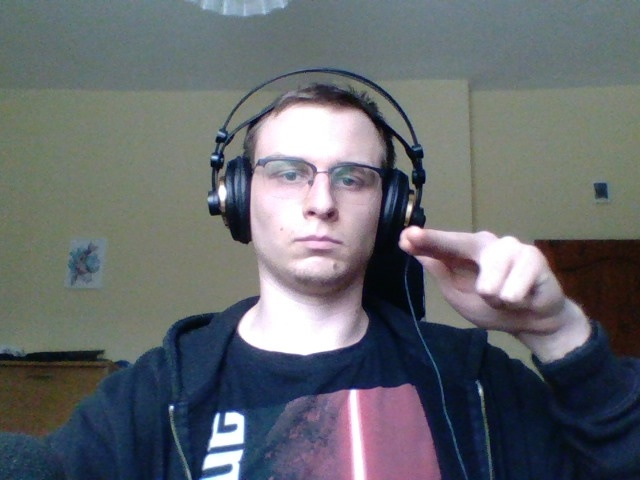no: (392, 207, 575, 338)
